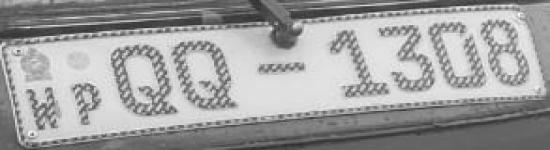-: (253, 60, 310, 77)
0: (426, 18, 488, 92)
1: (322, 25, 391, 98)
3: (380, 20, 437, 93)
8: (475, 17, 533, 86)
P: (67, 80, 105, 127)
Q: (105, 39, 178, 118), (172, 37, 240, 110)
W: (23, 83, 63, 134)
